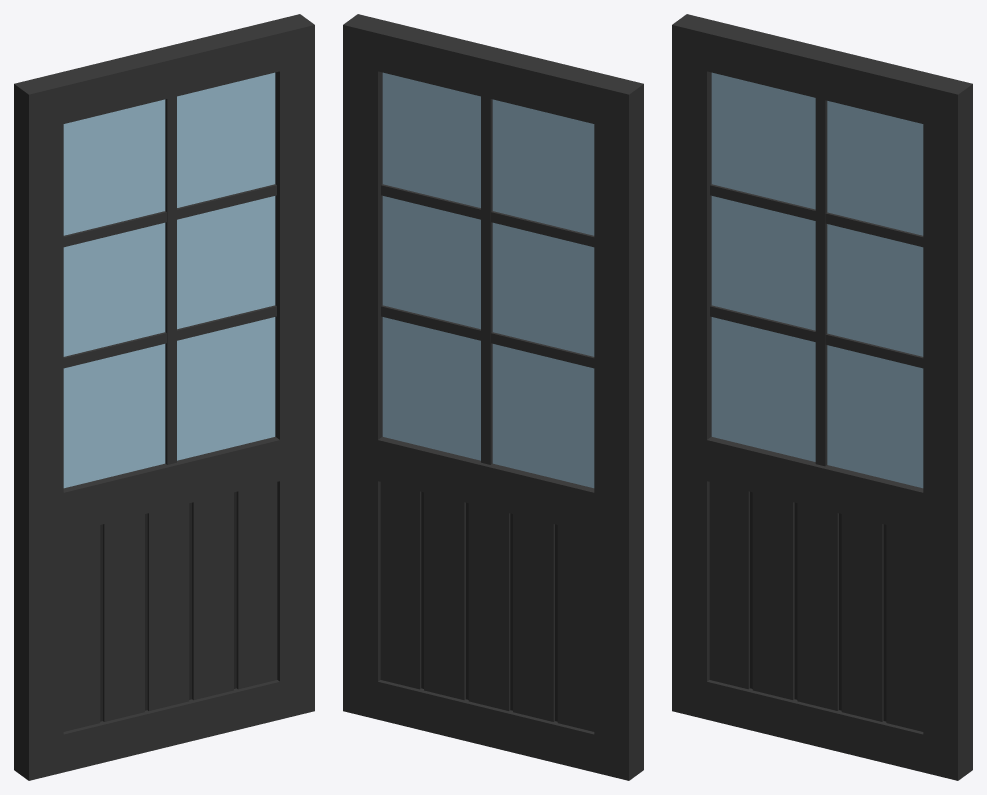
Rendered from Door6_C2.fbx.
3 renders of one model, left to right at view 1: azimuth 30°, elevation 25°; view 2: azimuth 150°, elevation 25°; view 3: azimuth 330°, elevation 25°, orthographic.
Parts seen in each view (by area): view 1: Door6_C2; view 2: Door6_C2; view 3: Door6_C2.
Boxes of the visible parts, x1,y1,x2,y2 form: Door6_C2: (14,14,314,780); Door6_C2: (343,14,643,780); Door6_C2: (672,14,972,780).
Bounding box in the file's own units: 0.89 × 2.04 × 0.08.
